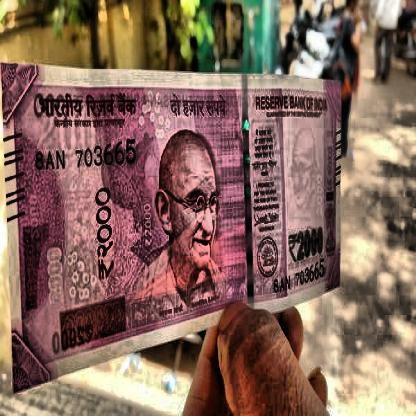Rs2000: (286, 222, 325, 267)
